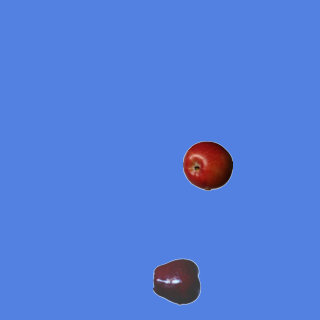Apple Braeburn: (182, 140, 232, 190)
Apple Red Delicious: (152, 256, 202, 306)
